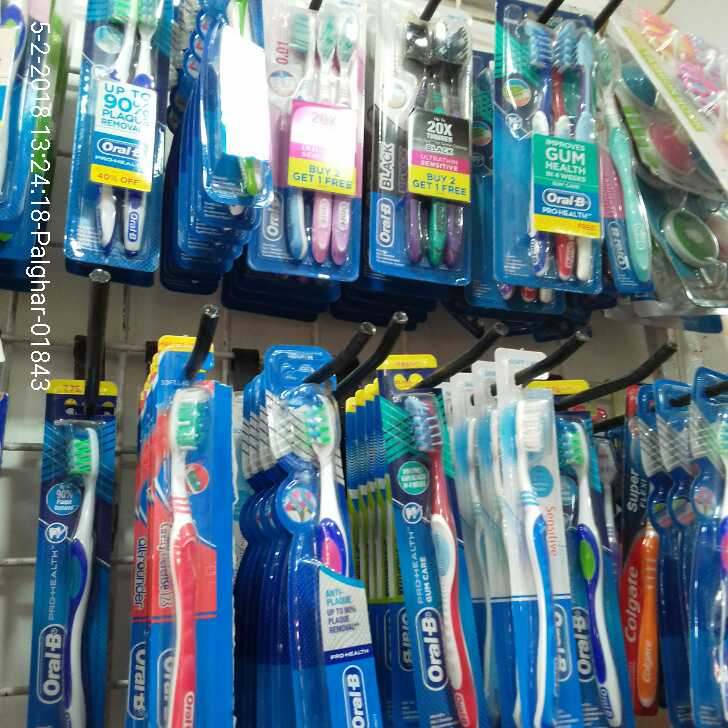oralb: (241, 381, 374, 728), (130, 396, 227, 728), (487, 7, 600, 283), (252, 12, 360, 273), (365, 7, 462, 277), (396, 383, 471, 728), (561, 409, 640, 728), (38, 415, 113, 728), (79, 1, 153, 270), (499, 406, 554, 728)
